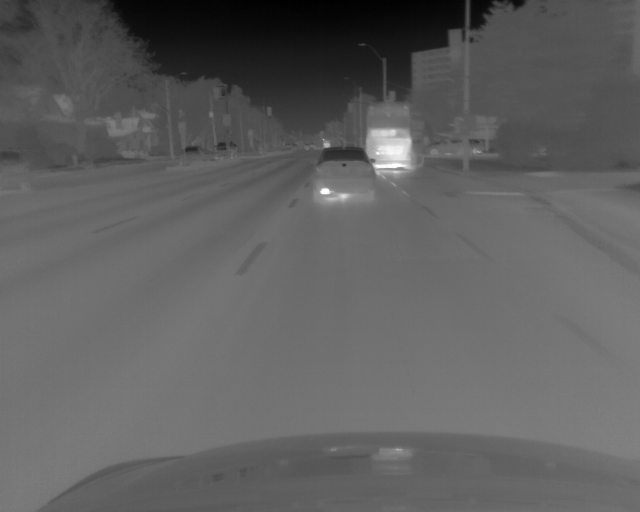car: (364, 99, 425, 172), (313, 146, 377, 203), (1, 147, 31, 195), (424, 137, 480, 157), (211, 142, 238, 162), (180, 145, 207, 162)
